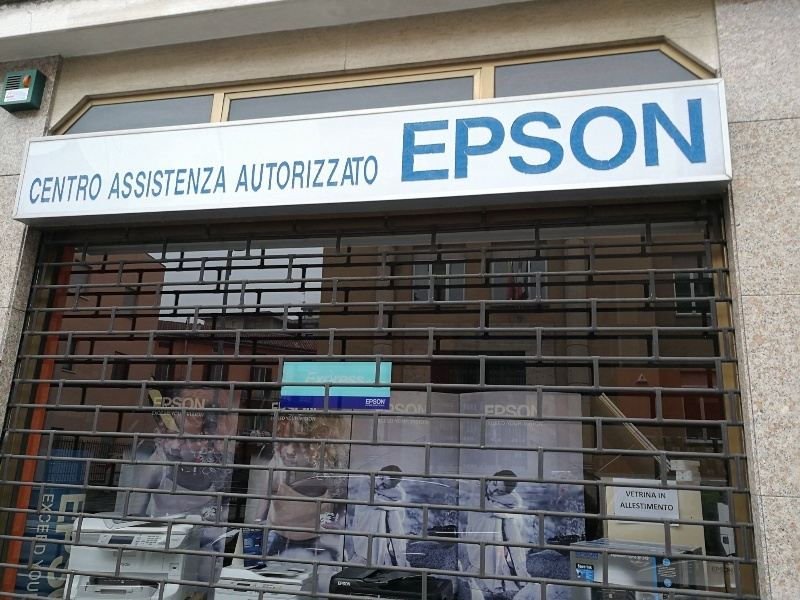text: (65, 493, 80, 599), (417, 97, 432, 186), (433, 97, 448, 186), (449, 97, 464, 186), (465, 97, 480, 186), (481, 97, 496, 186), (497, 97, 512, 186), (513, 97, 528, 186), (529, 97, 544, 186), (545, 97, 560, 186), (561, 97, 576, 186), (577, 97, 592, 186), (593, 97, 608, 186), (609, 97, 624, 186), (625, 97, 640, 186), (641, 97, 656, 186), (657, 97, 672, 186), (673, 97, 688, 186), (689, 97, 704, 186), (403, 97, 416, 186), (81, 493, 88, 599), (257, 154, 272, 193), (273, 154, 288, 193), (289, 154, 304, 193), (305, 154, 320, 193), (321, 154, 336, 193), (337, 154, 352, 193), (353, 154, 368, 193), (129, 166, 144, 200), (145, 166, 160, 200), (161, 166, 176, 200), (177, 166, 192, 200), (193, 166, 208, 200), (209, 166, 224, 200), (243, 154, 256, 193), (33, 173, 48, 205), (49, 173, 64, 205), (65, 173, 80, 205), (81, 173, 96, 205), (115, 166, 128, 200), (33, 559, 45, 594), (369, 154, 379, 193), (49, 494, 55, 557), (61, 493, 64, 599), (43, 494, 48, 557), (705, 97, 708, 186), (161, 397, 176, 412), (177, 397, 192, 412), (497, 404, 512, 419), (513, 404, 528, 419), (97, 173, 104, 205), (193, 397, 207, 412), (385, 405, 400, 419), (401, 405, 416, 419), (529, 404, 543, 419), (321, 373, 336, 386), (337, 373, 352, 386), (658, 567, 672, 580), (485, 404, 496, 419), (353, 373, 365, 386), (417, 405, 428, 419), (657, 503, 673, 512), (309, 373, 320, 386), (625, 503, 640, 512), (641, 503, 656, 512), (641, 492, 657, 500), (626, 492, 640, 500), (376, 405, 384, 419), (369, 398, 384, 405), (225, 166, 228, 200), (721, 568, 734, 575), (154, 397, 160, 412), (577, 552, 592, 558), (273, 402, 279, 416), (659, 494, 672, 500), (338, 582, 352, 587), (529, 422, 543, 427), (673, 567, 678, 580), (711, 568, 720, 575), (193, 413, 205, 418), (577, 557, 592, 561), (586, 570, 592, 580), (273, 416, 285, 421), (578, 565, 592, 569), (417, 420, 428, 425), (485, 421, 496, 426), (611, 555, 624, 559), (161, 411, 171, 416), (118, 563, 128, 568), (628, 555, 640, 559), (369, 405, 385, 408), (401, 419, 409, 425), (385, 419, 394, 424), (497, 421, 506, 426), (513, 421, 522, 426), (289, 416, 298, 421), (305, 417, 316, 421), (243, 529, 256, 532), (593, 552, 599, 558), (153, 411, 160, 416), (641, 557, 649, 561), (186, 413, 192, 418), (378, 419, 384, 424), (410, 420, 416, 425), (177, 412, 182, 417), (587, 565, 592, 570), (507, 421, 512, 426), (523, 422, 528, 427), (593, 557, 599, 561), (396, 419, 400, 425), (172, 412, 176, 417), (299, 417, 304, 421), (622, 503, 624, 512), (257, 529, 263, 532), (366, 398, 368, 405), (625, 555, 628, 559), (593, 570, 594, 580), (286, 416, 288, 421), (129, 563, 131, 568), (365, 405, 368, 408), (638, 557, 640, 561), (385, 398, 386, 405), (271, 416, 272, 421)
